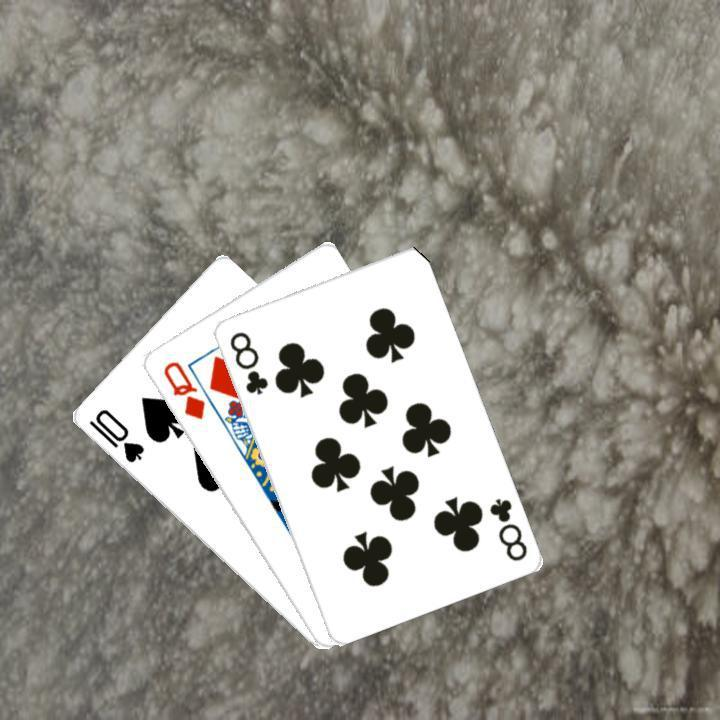10: (83, 404, 146, 465)
8: (224, 327, 270, 397), (484, 493, 529, 563)
Q: (158, 356, 207, 422)
